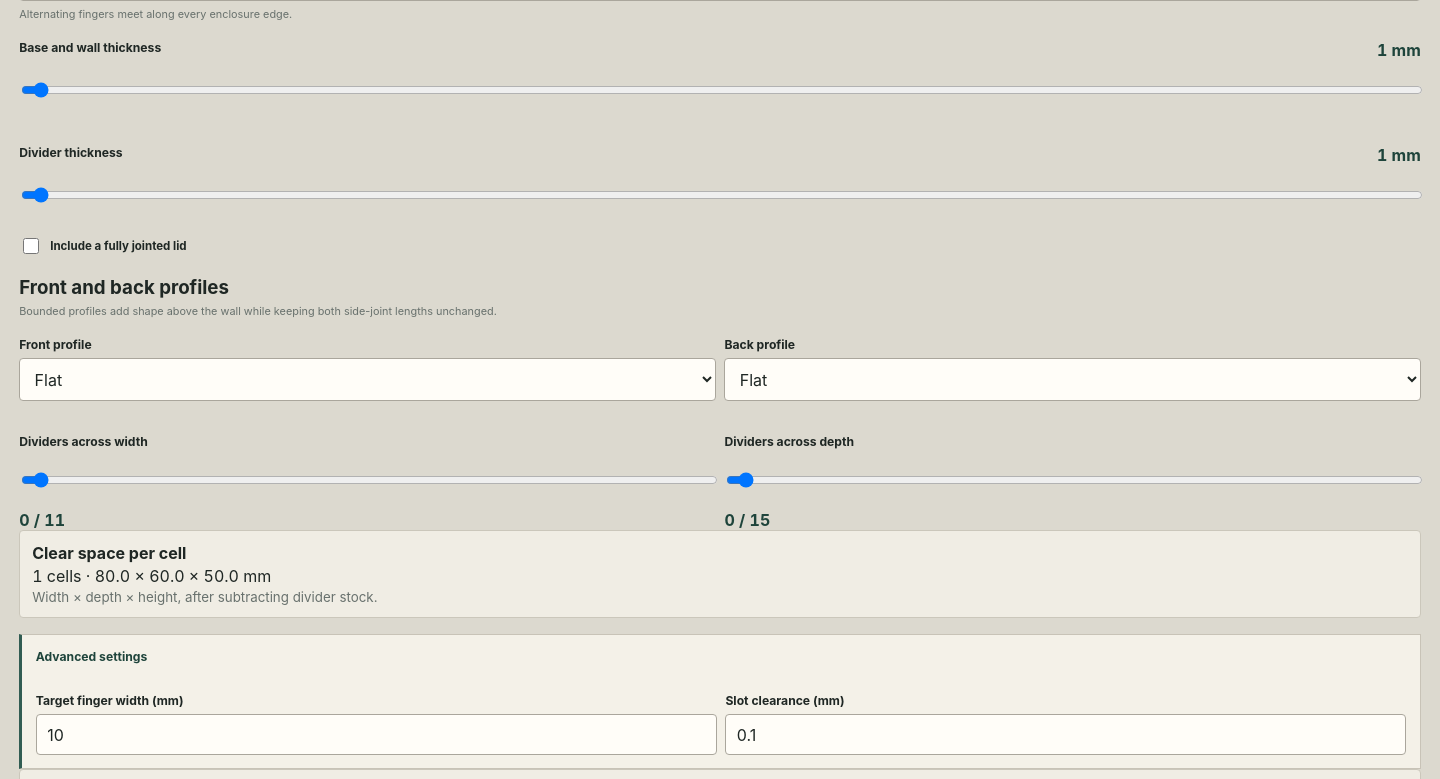
PanelConstructionPanel › warns when a raised profile is combined with a lid
(page scrolled)
Select "Arch" in the dropdown labelled "Front profile" at x=367, y=380, box [19, 358, 716, 401]
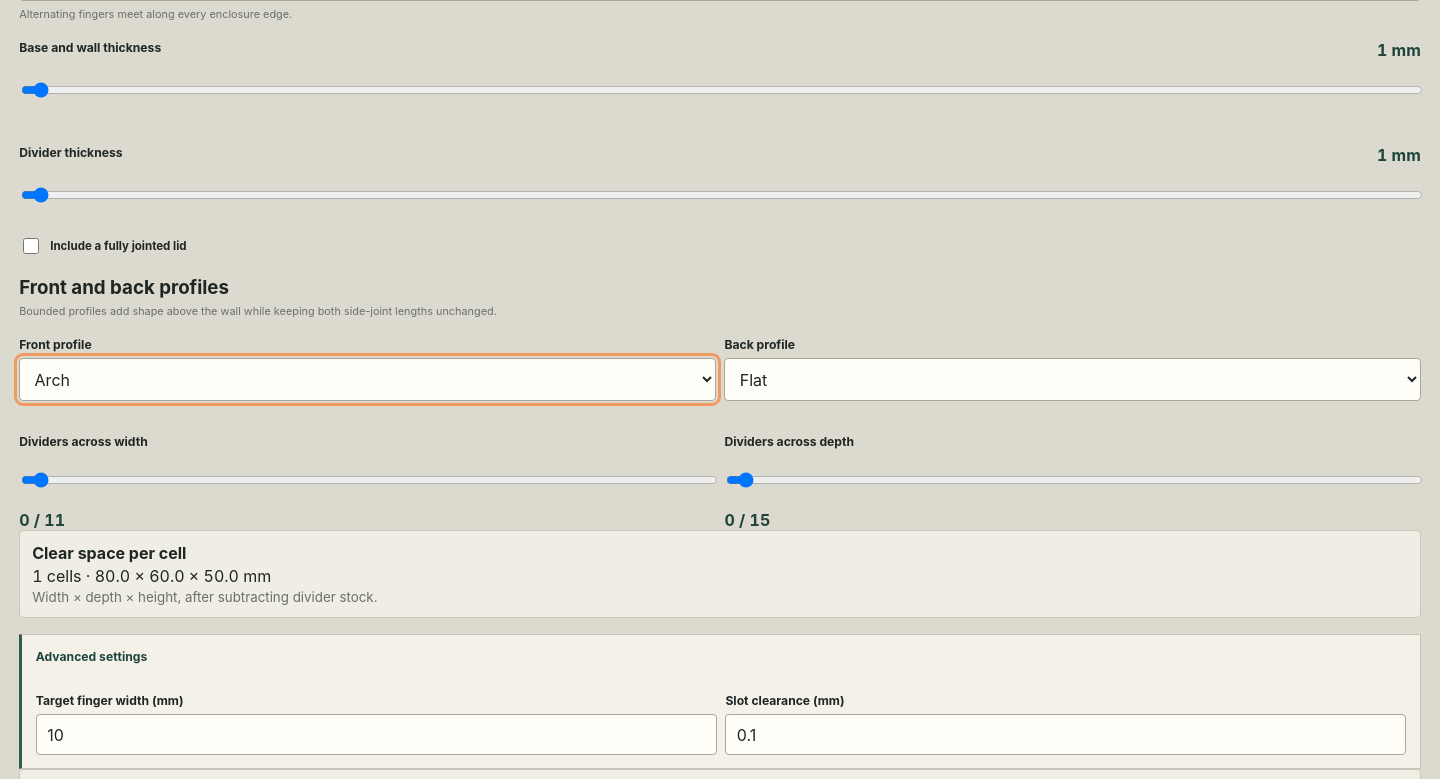
Click the checkbox labelled "Include a fully jointed lid" at x=31, y=246, box [23, 238, 39, 254]
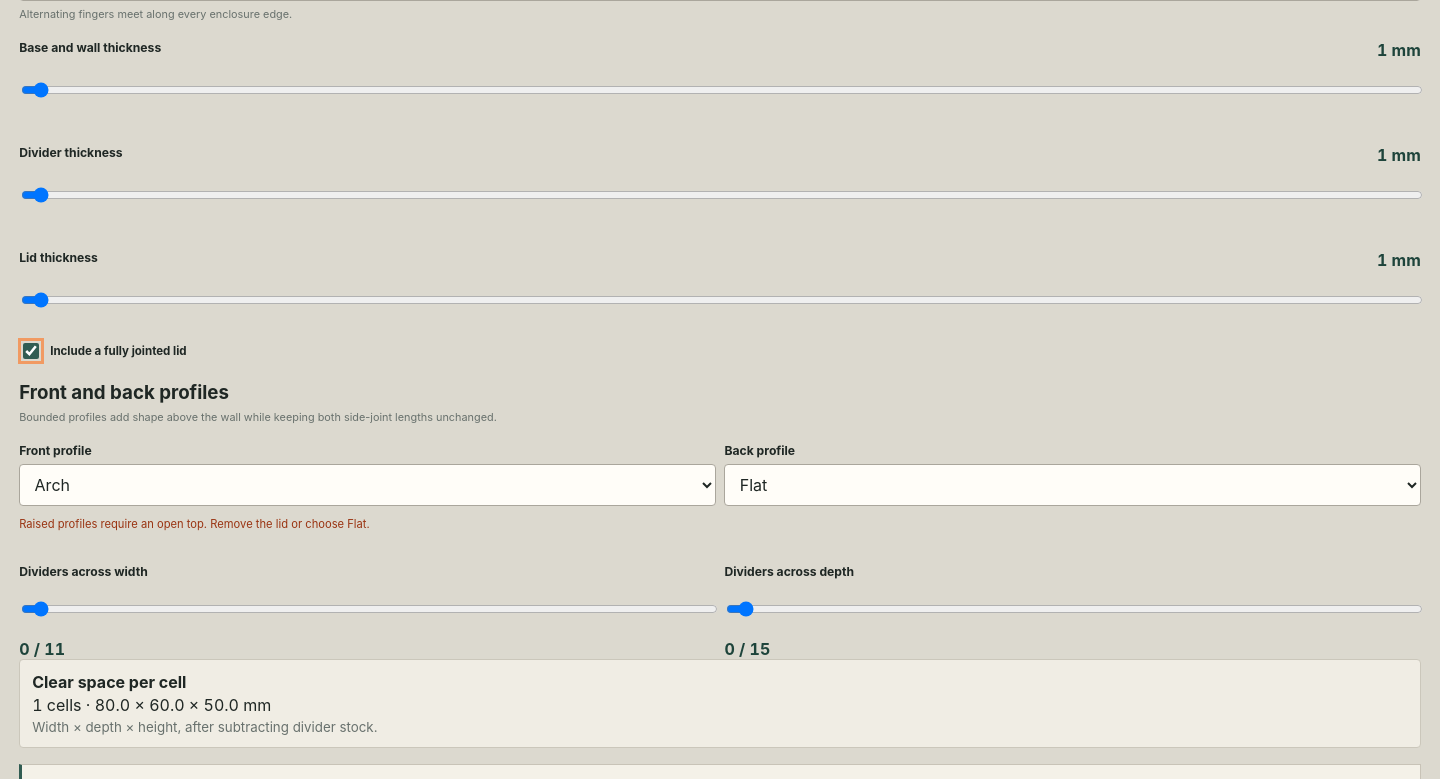
Check: the message shows "Raised profiles require an open top", box [19, 516, 370, 530]
